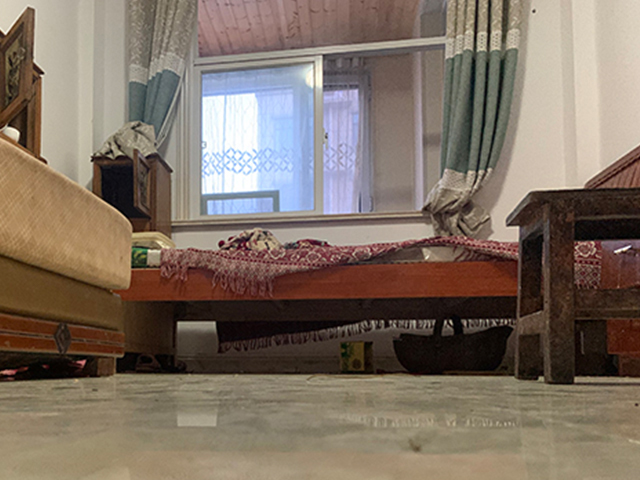bed: (121, 144, 640, 378)
curtain: (422, 1, 520, 235), (114, 2, 196, 167)
slippers: (134, 352, 162, 374)
sofa: (1, 134, 133, 379)
stool: (504, 187, 640, 387)
